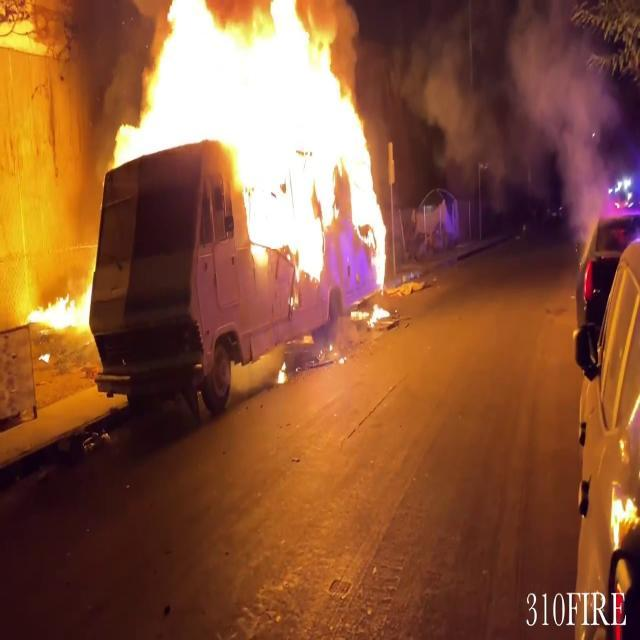Fire: (113, 1, 391, 288), (23, 265, 95, 342)
Smoke: (406, 1, 639, 218)
